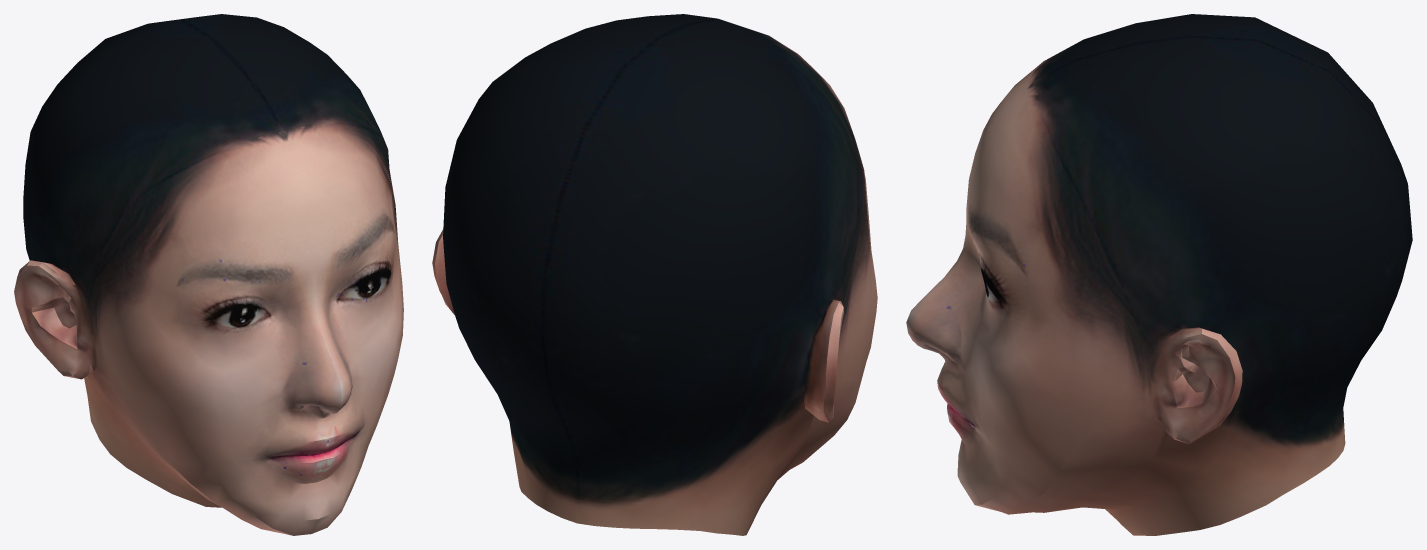
File: mean_mesh.obj
3 renders of one model, left to right at view 1: azimuth 30°, elevation 25°; view 2: azimuth 150°, elevation 25°; view 3: azimuth 270°, elevation 25°, orthographic. The views are drawn at different scales.
Parts seen in each view (by area): view 1: face_chang:face_normal face_chang:polySurface1; view 2: face_chang:face_normal face_chang:polySurface1; view 3: face_chang:face_normal face_chang:polySurface1.
Boxes of the visible parts, bbox=[...] form: face_chang:face_normal face_chang:polySurface1: bbox=[14, 14, 403, 535]; face_chang:face_normal face_chang:polySurface1: bbox=[432, 14, 877, 535]; face_chang:face_normal face_chang:polySurface1: bbox=[906, 14, 1412, 535].
Size of the model in its own units: 18.77 by 22.64 by 21.27.
